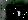person: (16, 7, 23, 19)
